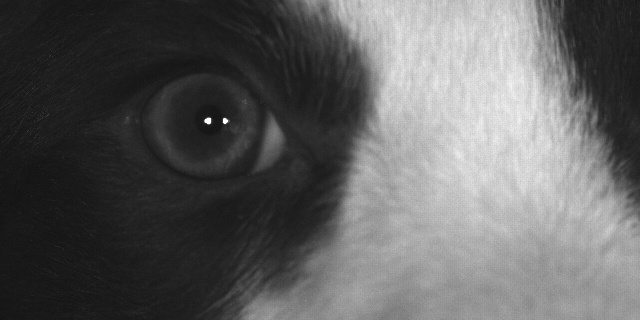iris: (139, 77, 291, 180)
